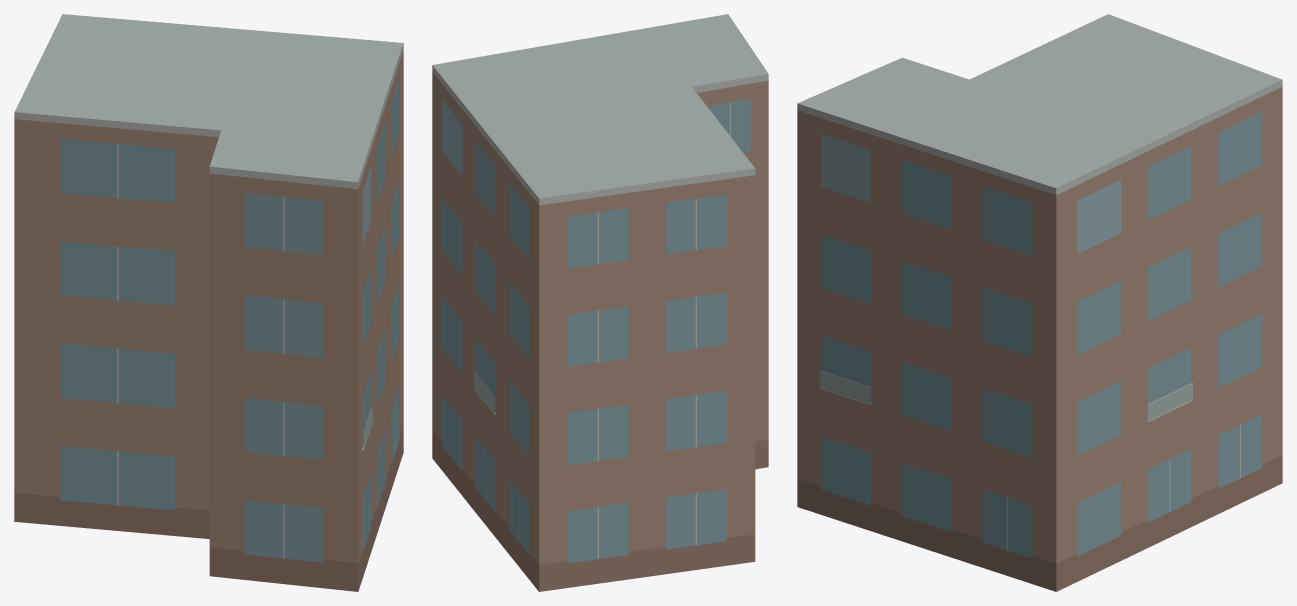
File: survey-upis-32996618.glb
3 views of the same model, side by side, from view 1: azimuth 30°, elevation 25°; view 2: azimuth 150°, elevation 25°; view 3: azimuth 270°, elevation 25° (orthographic). The views are drawn at different scales.
Parts seen in each view (by area): view 1: survey-upis-32996618.tmp; view 2: survey-upis-32996618.tmp; view 3: survey-upis-32996618.tmp.
Boxes of the visible parts, box(x1,y1,x2,y2) form: survey-upis-32996618.tmp: box(14, 14, 403, 591); survey-upis-32996618.tmp: box(432, 14, 768, 591); survey-upis-32996618.tmp: box(797, 14, 1282, 591).
Bounding box in the file's own units: 13.26 × 14.3 × 15.6.
